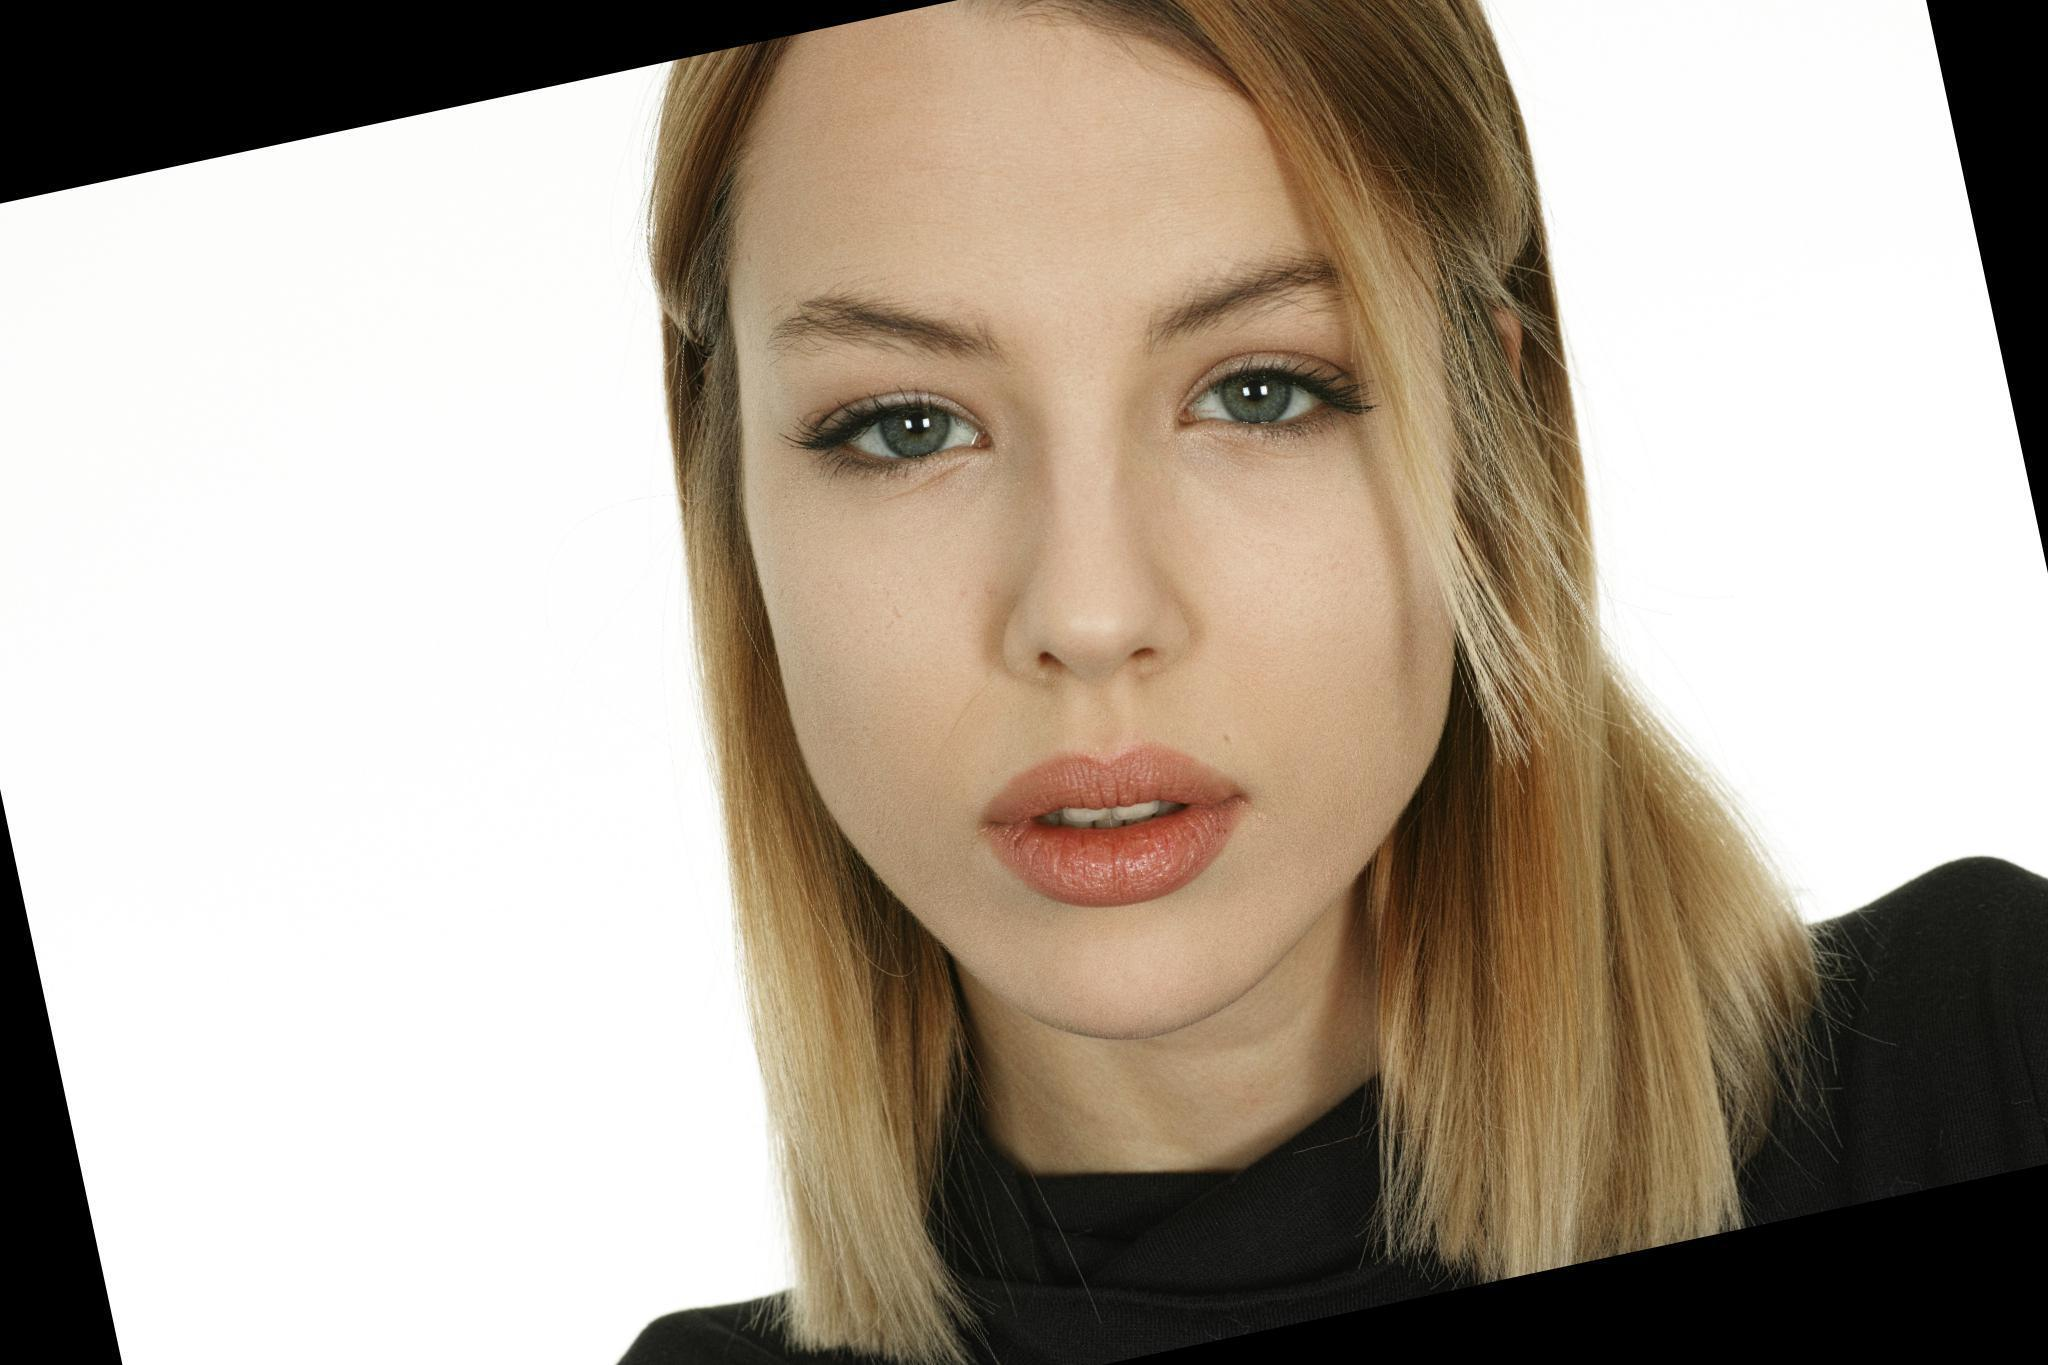Sober: (742, 75, 1463, 954)
